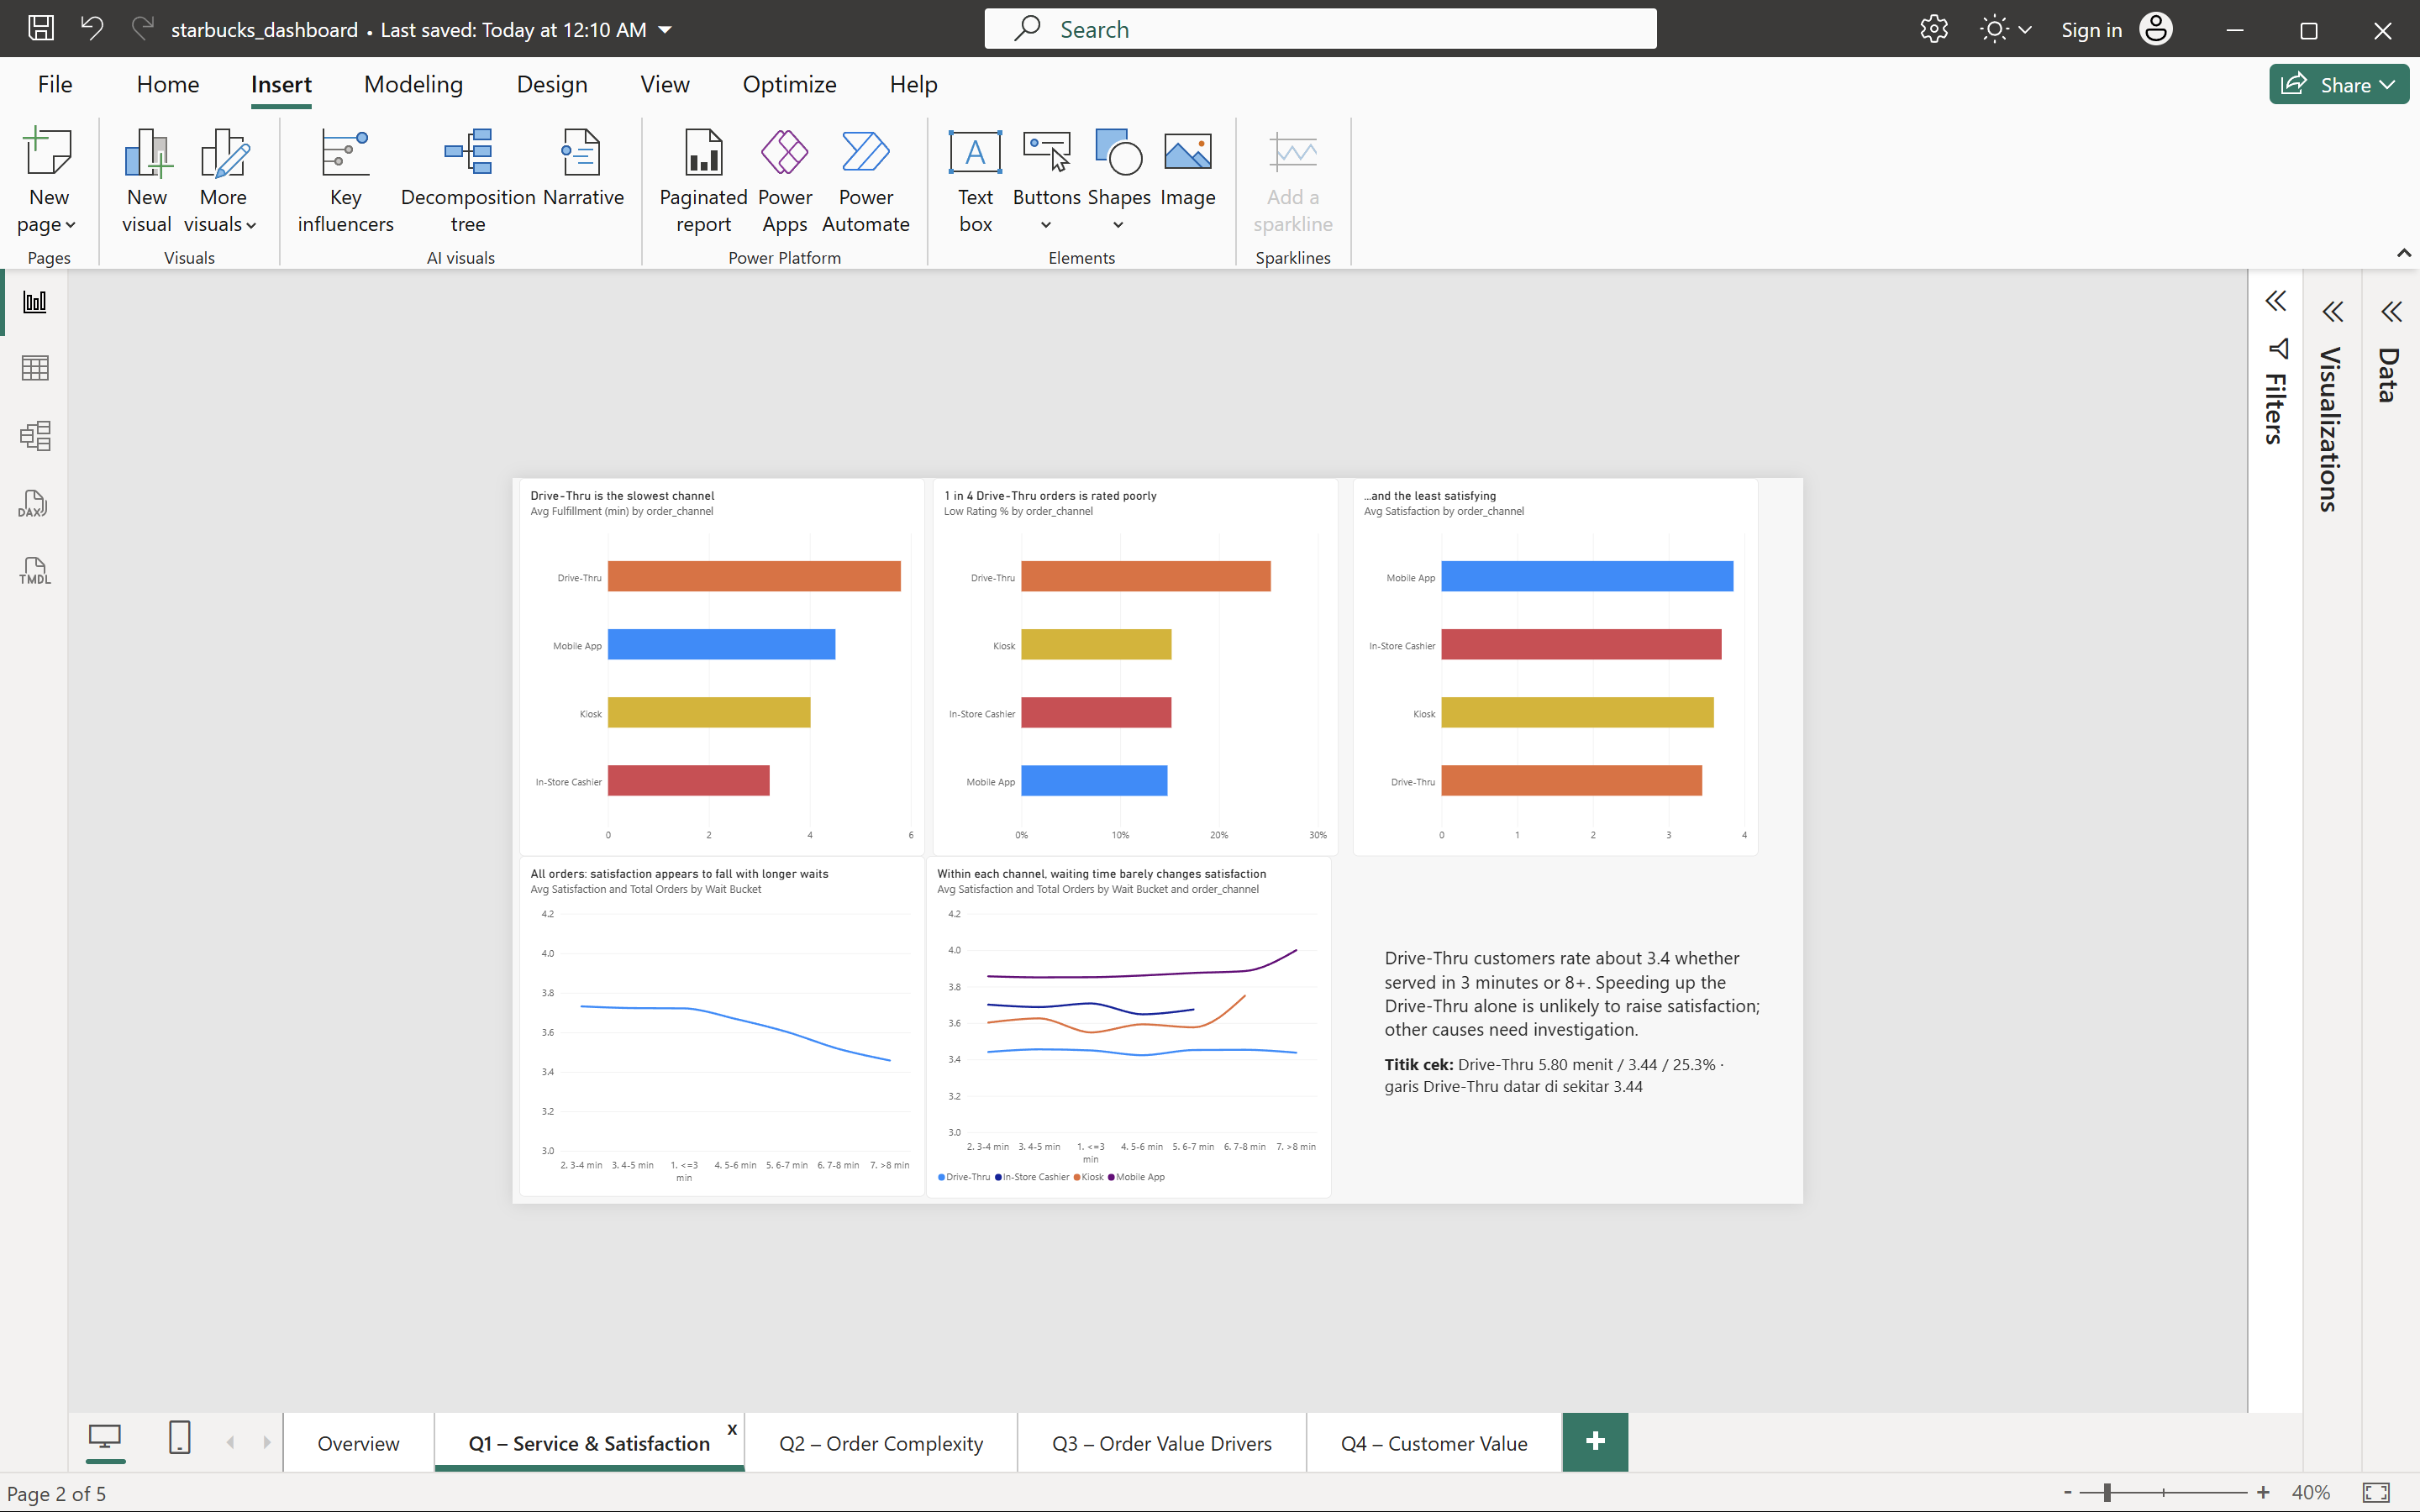

The dashboard page shown, as its layout file describes it:
{"tool":"powerbi","page":{"name":"Q1 – Service & Satisfaction","canvas":[1920,1080],"ordinal":1},"visuals":[{"type":"clusteredBarChart","title":"Drive-Thru is the slowest channel","fields":{"Category":["fact_orders.order_channel"],"Y":["fact_orders.Avg Fulfillment (min)"]},"box":[10.2,0,603.5,562.8],"z":0},{"type":"clusteredBarChart","title":"…and the least satisfying","fields":{"Category":["fact_orders.order_channel"],"Y":["fact_orders.Avg Satisfaction"]},"box":[1250.3,0,603.5,562.8],"z":1000},{"type":"clusteredBarChart","title":"1 in 4 Drive-Thru orders is rated poorly","fields":{"Category":["fact_orders.order_channel"],"Y":["fact_orders.Low Rating %"]},"box":[624,0,604,563],"z":2000},{"type":"lineChart","title":"All orders: satisfaction appears to fall with longer waits","fields":{"Category":["fact_orders.Wait Bucket"],"Y":["fact_orders.Avg Satisfaction"]},"box":[10,562.5,604,507],"z":3000},{"type":"lineChart","title":"Within each channel, waiting time barely changes satisfaction","fields":{"Category":["fact_orders.Wait Bucket"],"Series":["fact_orders.order_channel"],"Y":["fact_orders.Avg Satisfaction"]},"box":[615,562.5,603.5,509.3],"z":4000},{"type":"textbox","box":[1297.5,695,560,377.5],"z":5000}]}

Visuals, with their boxes on the page's 1920x1080 design canvas (x1, y1, x2, y2). These are canvas units, not pixel positions in the 2420x1512 screenshot, which may show the page scaled, cropped or inside an application window:
"Drive-Thru is the slowest channel" clusteredBarChart: bbox(10, 0, 614, 563)
"…and the least satisfying" clusteredBarChart: bbox(1250, 0, 1854, 563)
"1 in 4 Drive-Thru orders is rated poorly" clusteredBarChart: bbox(624, 0, 1228, 563)
"All orders: satisfaction appears to fall with longer waits" lineChart: bbox(10, 562, 614, 1070)
"Within each channel, waiting time barely changes satisfaction" lineChart: bbox(615, 562, 1218, 1072)
textbox: bbox(1298, 695, 1858, 1072)
